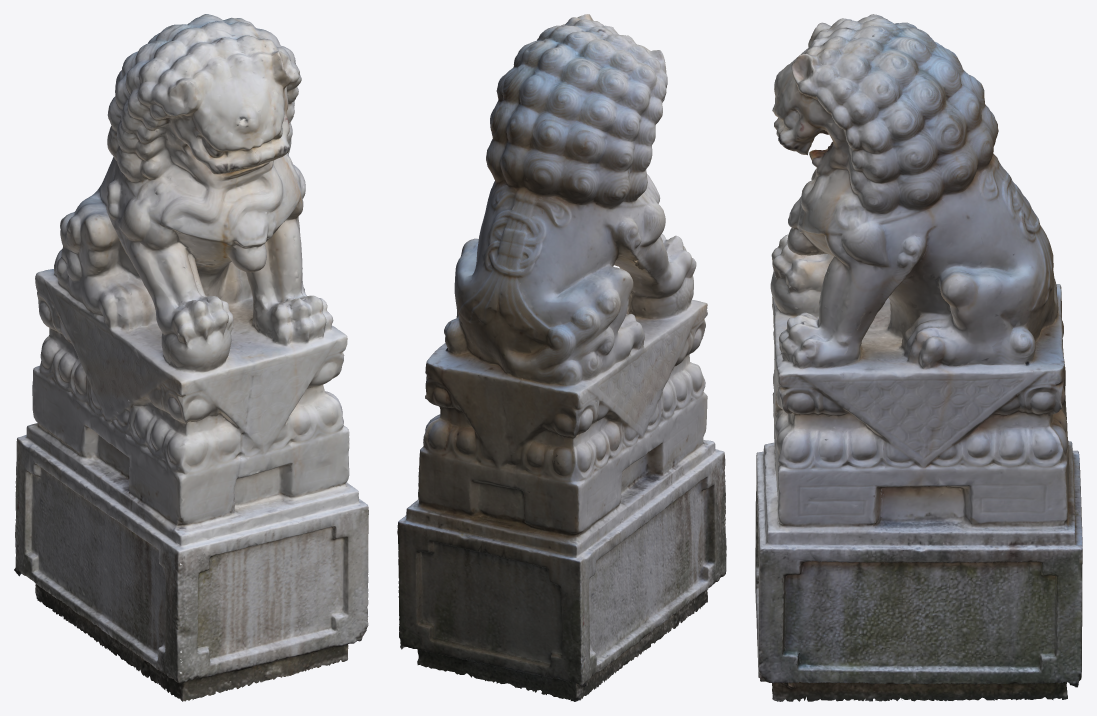
File: guardian-lion.glb
3 renders of one model, left to right at view 1: azimuth 30°, elevation 25°; view 2: azimuth 150°, elevation 25°; view 3: azimuth 270°, elevation 25°, orthographic. The views are drawn at different scales.
Visible parts, largest first — view 1: Scanned Guardian Lion - vmccurley; view 2: Scanned Guardian Lion - vmccurley; view 3: Scanned Guardian Lion - vmccurley.
Part boxes in pixels (x1,y1,x2,y2): Scanned Guardian Lion - vmccurley: [14, 14, 368, 701]; Scanned Guardian Lion - vmccurley: [397, 14, 726, 701]; Scanned Guardian Lion - vmccurley: [755, 14, 1082, 701].
Size of the model in its own units: 0.3343 by 1 by 0.4694.
Materials: 1 (1 with a texture image).
